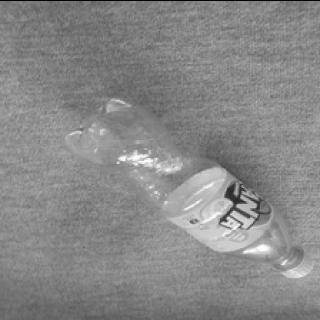plastic_bottles: (50, 84, 320, 300)
